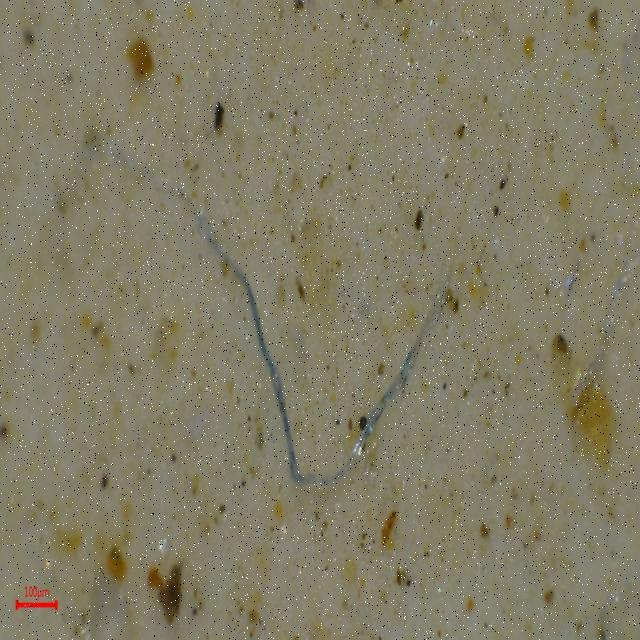fibers: (141, 212, 453, 507), (563, 243, 640, 410), (107, 143, 196, 209)
